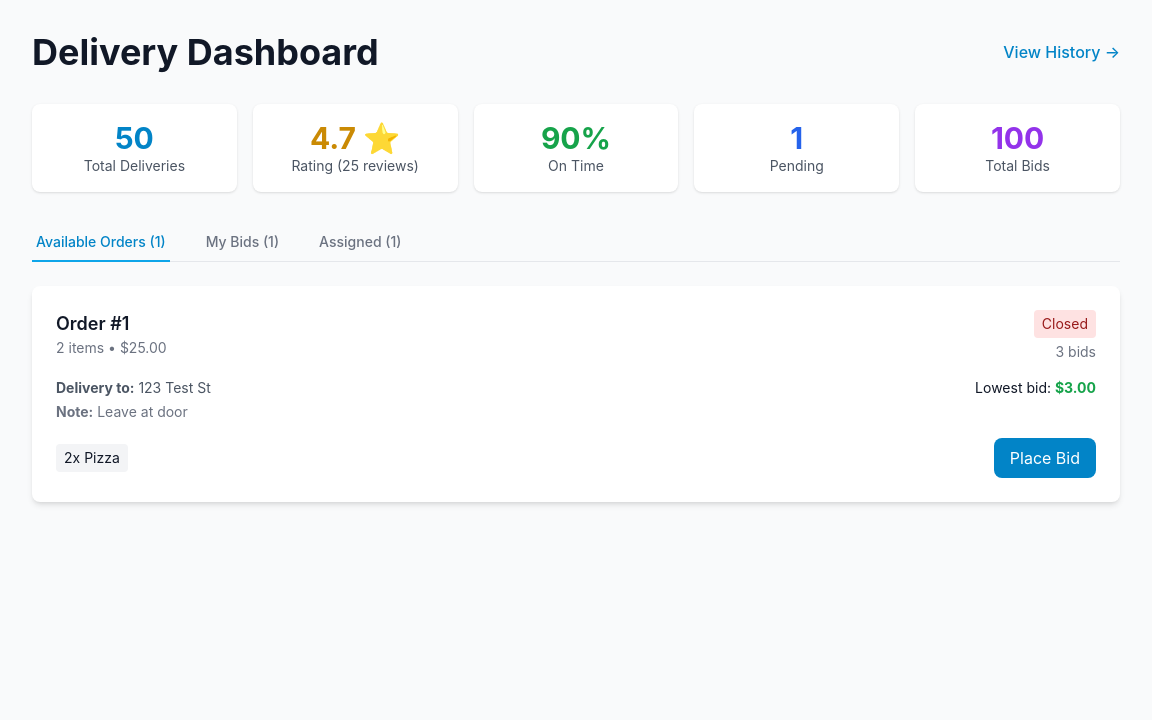
Test case: DeliveryDashboard › Bid Submission › closes modal on cancel
This screenshot has width=1152, height=720.
Click the button "Place Bid" at (1045, 458), box [994, 438, 1096, 478]
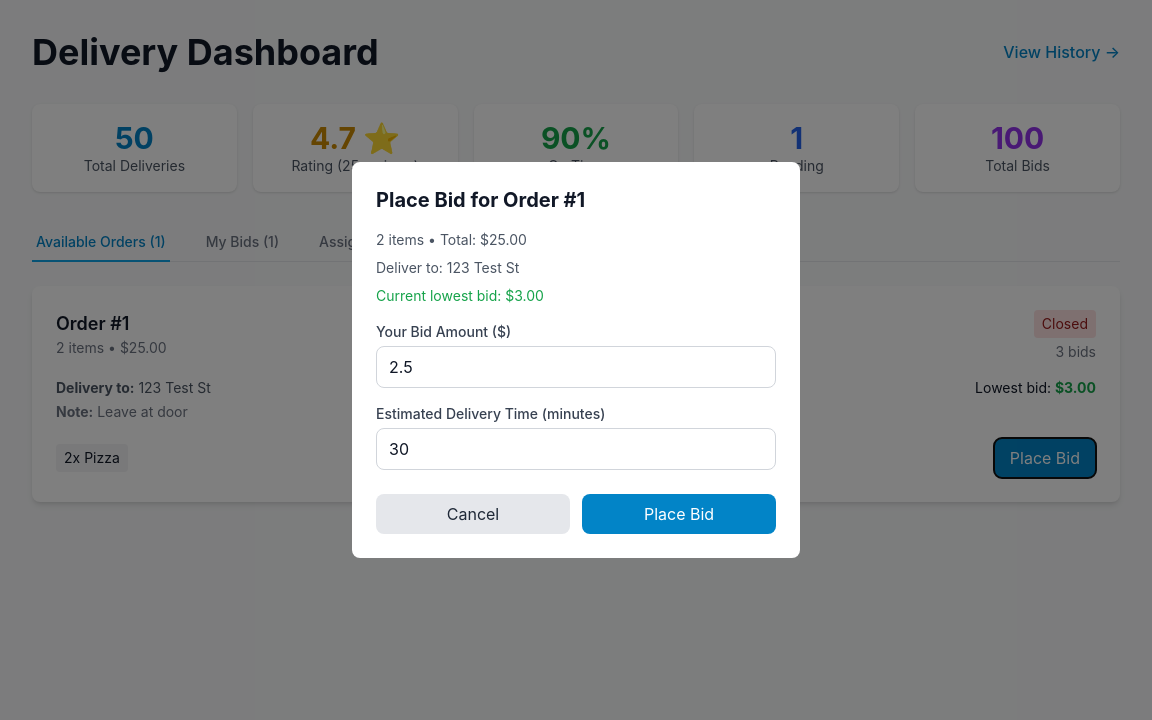
Expected: the button "Cancel" is shown
Click the button "Cancel" at (473, 514), box [376, 494, 570, 534]
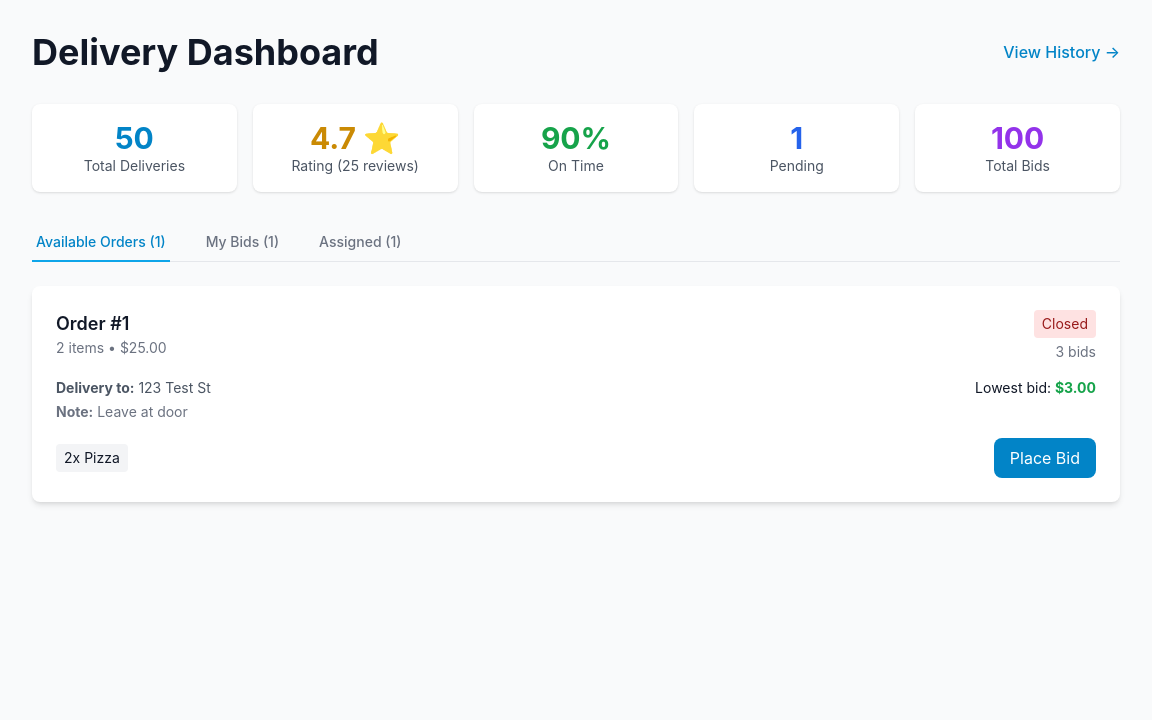
Expected: the heading "Place Bid for Order #1" is gone
